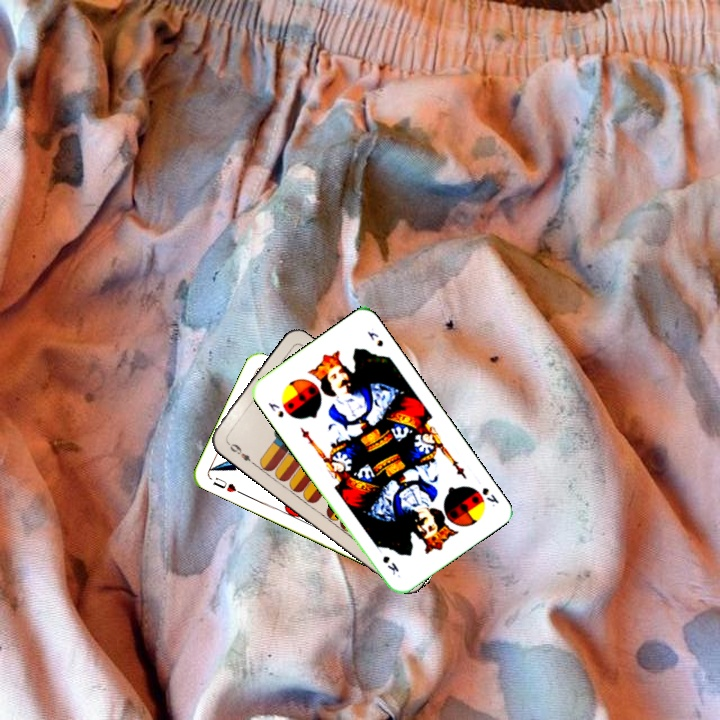E9: (222, 437, 257, 467)
HU: (209, 473, 239, 495)
SK: (478, 483, 502, 509), (264, 398, 287, 420)
